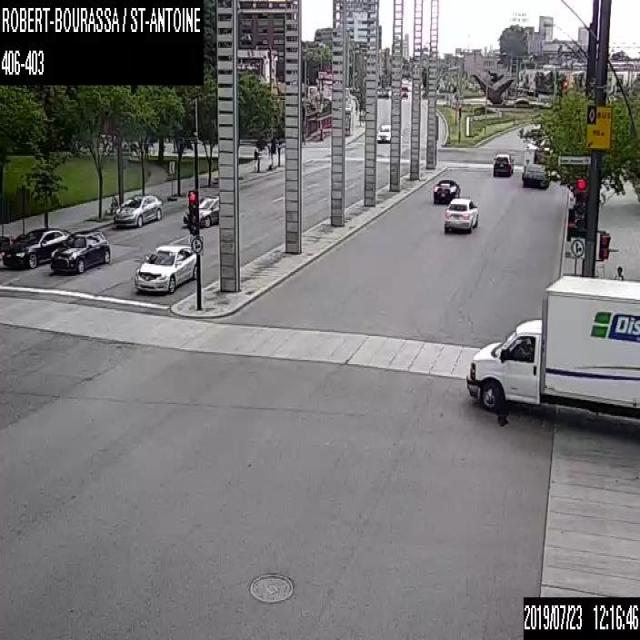bus: (521, 137, 549, 188)
pedestrian: (612, 265, 624, 279), (252, 146, 258, 170)
vehicle: (465, 271, 639, 421), (134, 243, 196, 292), (1, 225, 71, 268), (50, 228, 110, 273), (113, 192, 162, 226), (182, 192, 218, 226), (444, 196, 477, 232), (432, 177, 459, 202), (492, 151, 513, 176), (376, 124, 390, 142), (401, 90, 407, 97)
